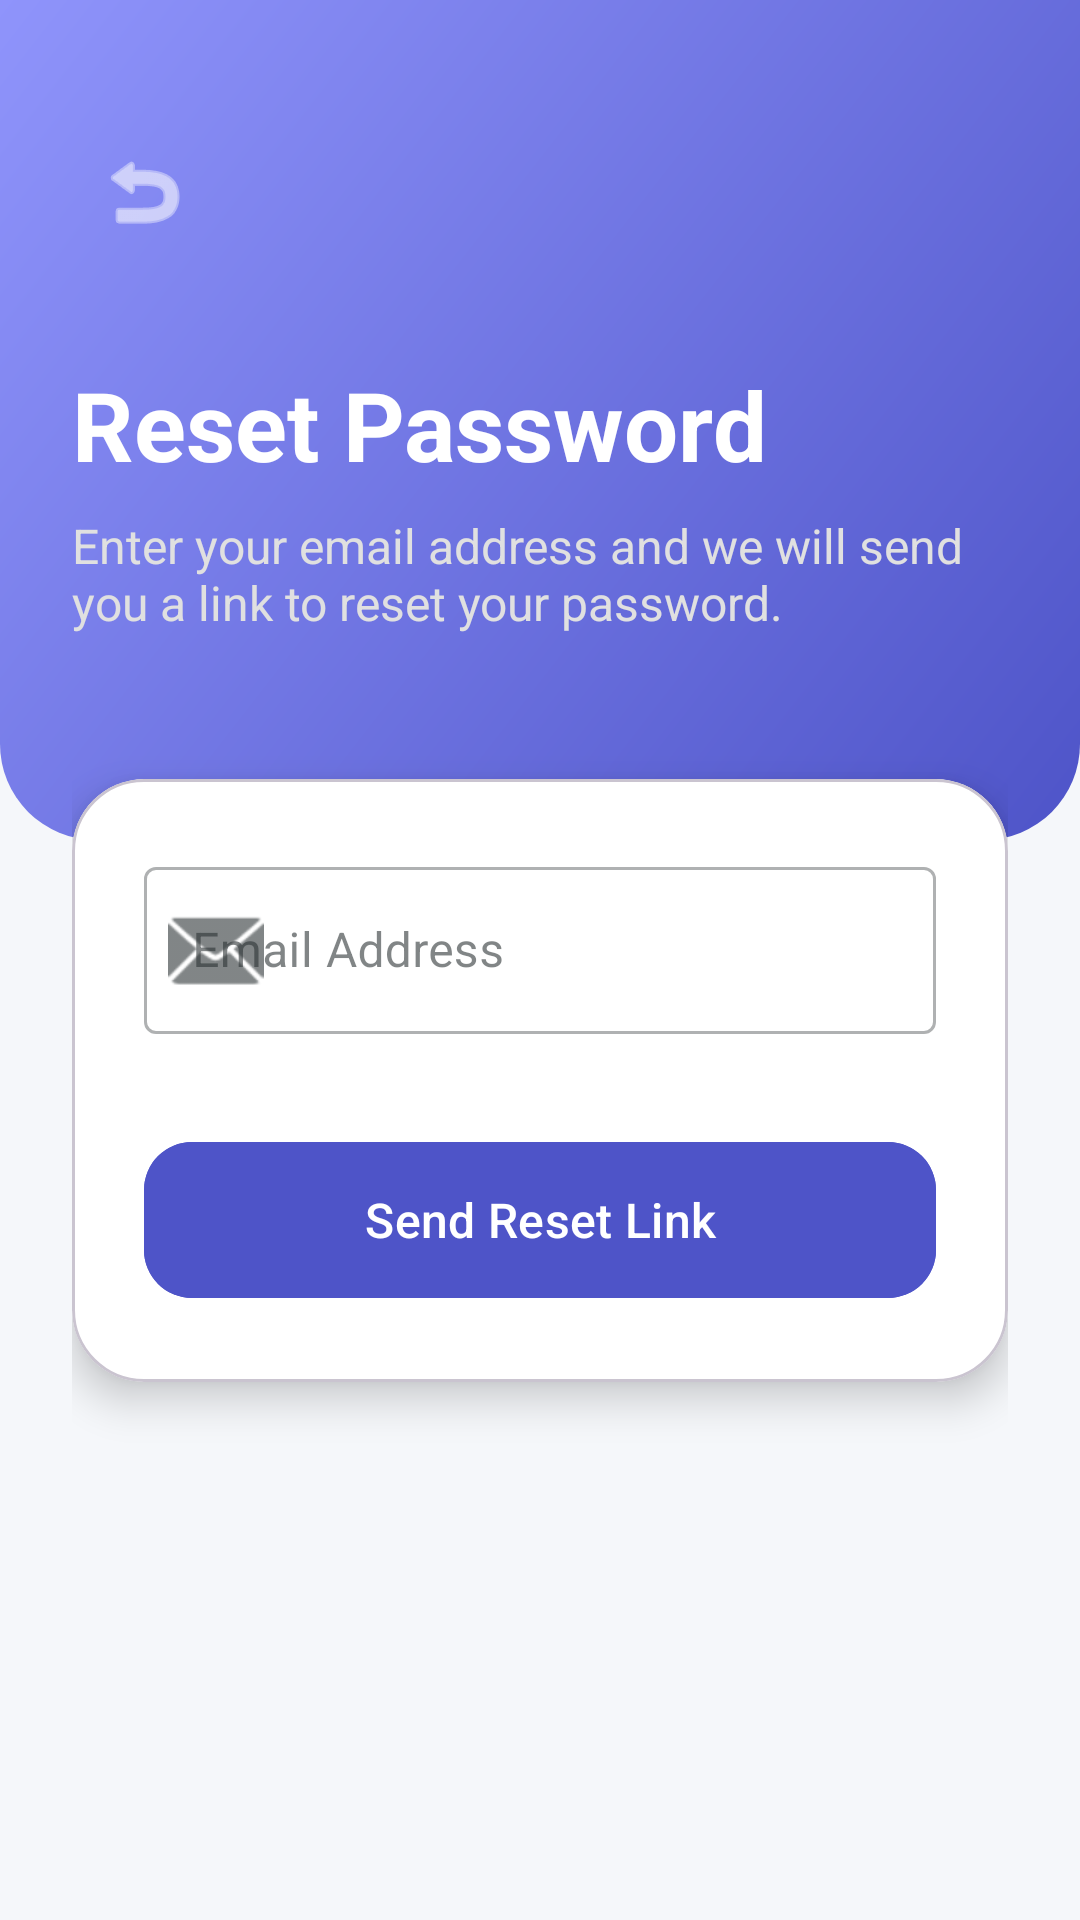

Where icons sit on this 1080px×1920px app screen, as [x1=x1, y1=y1, x2=x2, y2=y2]:
revert: [x1=111, y1=162, x2=180, y2=224]
